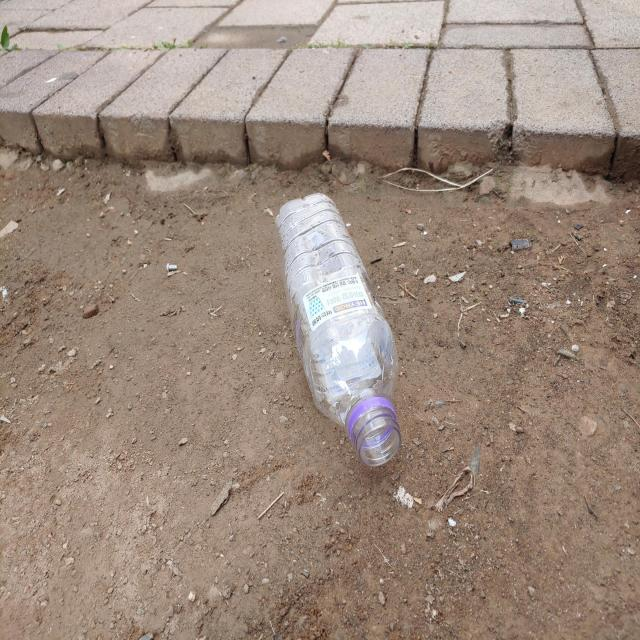plastic: (275, 193, 402, 467)
